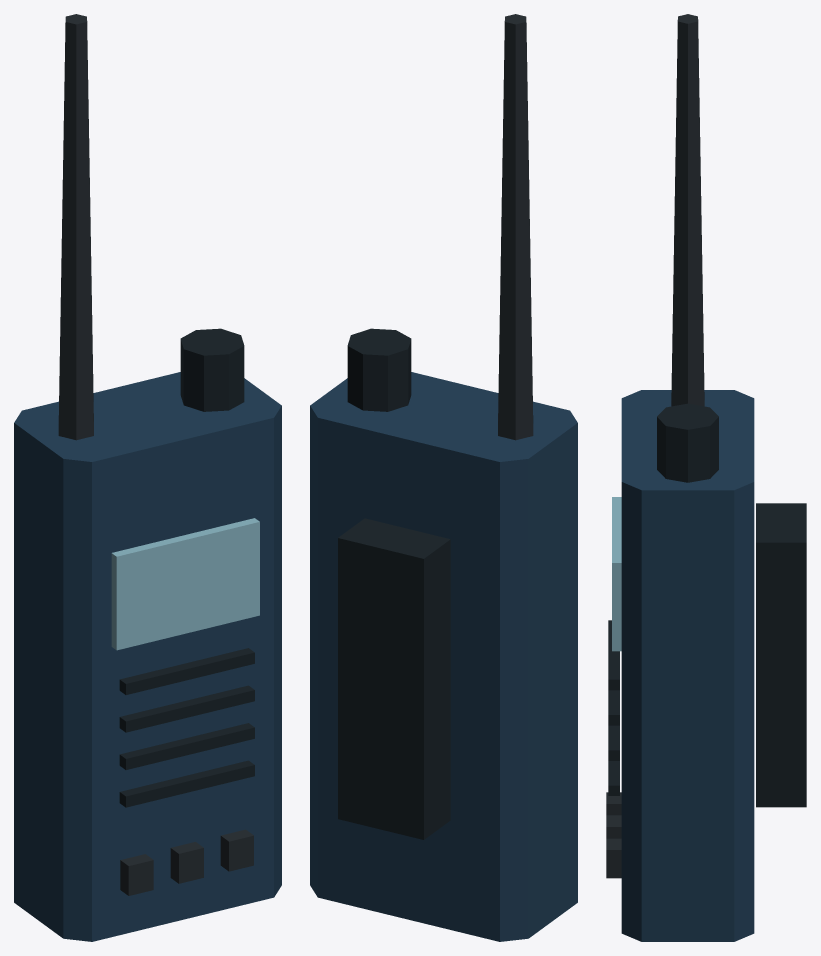
The model's file is b17_outdoor_two_way_radio.glb.
The picture shows the model from 3 angles, left to right: view 1: azimuth 30°, elevation 25°; view 2: azimuth 150°, elevation 25°; view 3: azimuth 270°, elevation 25°; orthographic projection. The views are drawn at different scales.
Parts seen in each view (by area): view 1: b17_outdoor_two_way_radio; view 2: b17_outdoor_two_way_radio; view 3: b17_outdoor_two_way_radio.
Boxes of the visible parts, x1,y1,x2,y2 form: b17_outdoor_two_way_radio: (14,14,281,941); b17_outdoor_two_way_radio: (310,14,577,941); b17_outdoor_two_way_radio: (606,14,806,941).
Size of the model in its own units: 0.061 by 0.238 by 0.0515.
